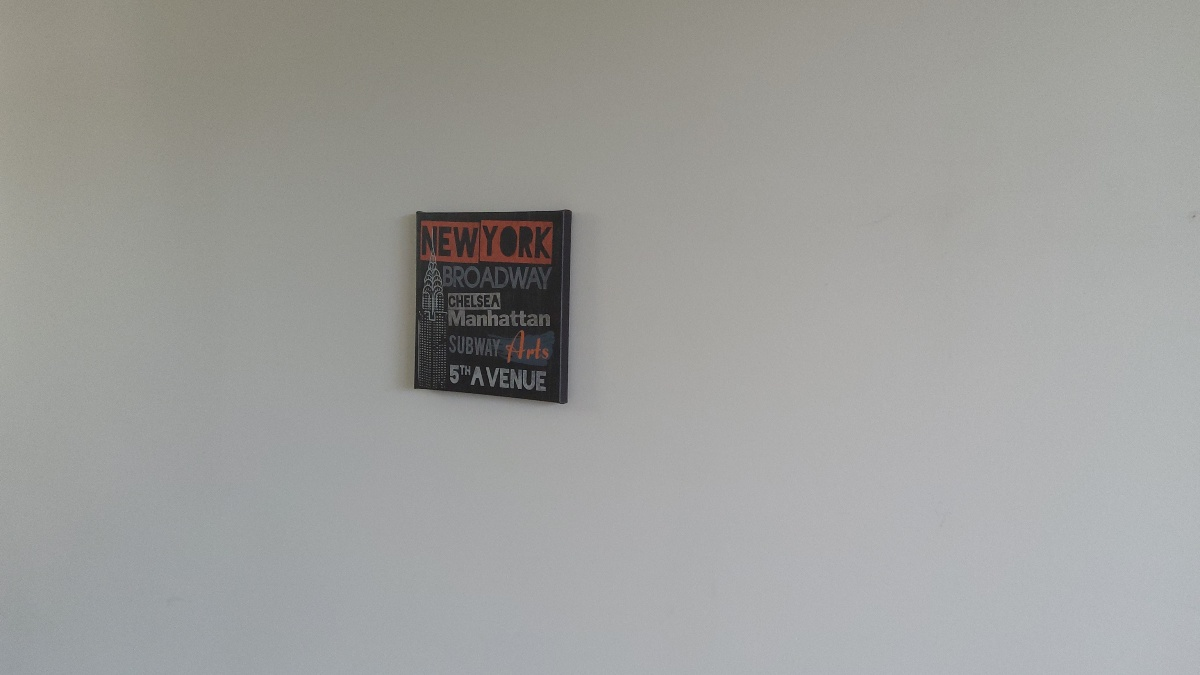poster: (412, 208, 575, 410)
